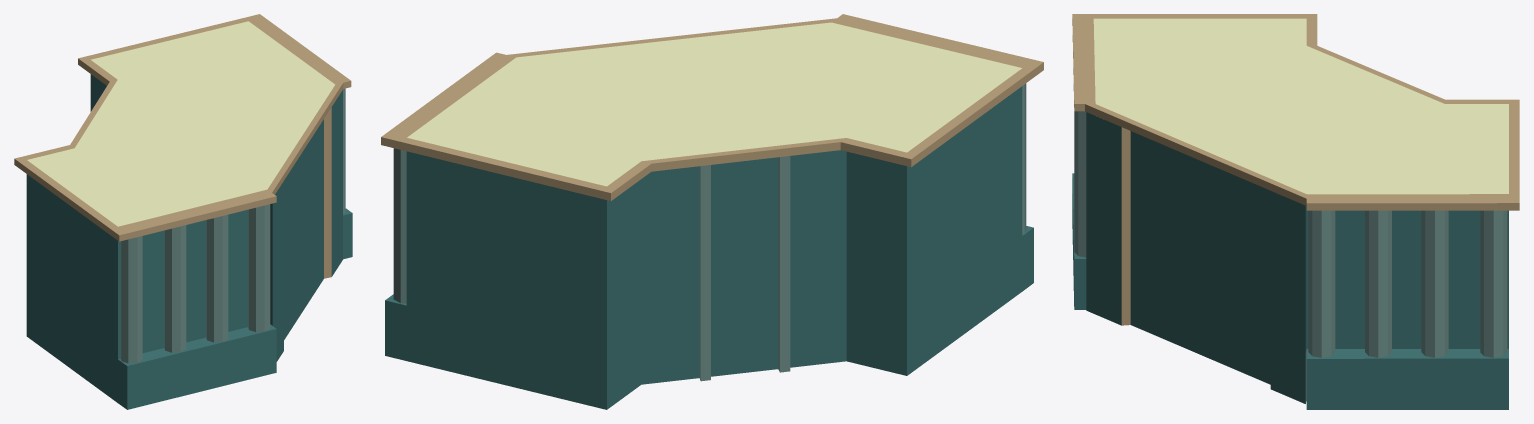
The model's file is EsquinaBanco 1.fbx.
The picture shows the model from 3 angles, left to right: view 1: azimuth 30°, elevation 25°; view 2: azimuth 150°, elevation 25°; view 3: azimuth 270°, elevation 25°; orthographic projection. The views are drawn at different scales.
Visible parts, largest first — view 1: Cube.042; view 2: Cube.042; view 3: Cube.042.
Boxes of the visible parts, bbox=[...] form: Cube.042: bbox=[14, 14, 352, 409]; Cube.042: bbox=[381, 14, 1043, 409]; Cube.042: bbox=[1072, 14, 1519, 409].
Bounding box in the file's own units: 422 × 213 × 420.
